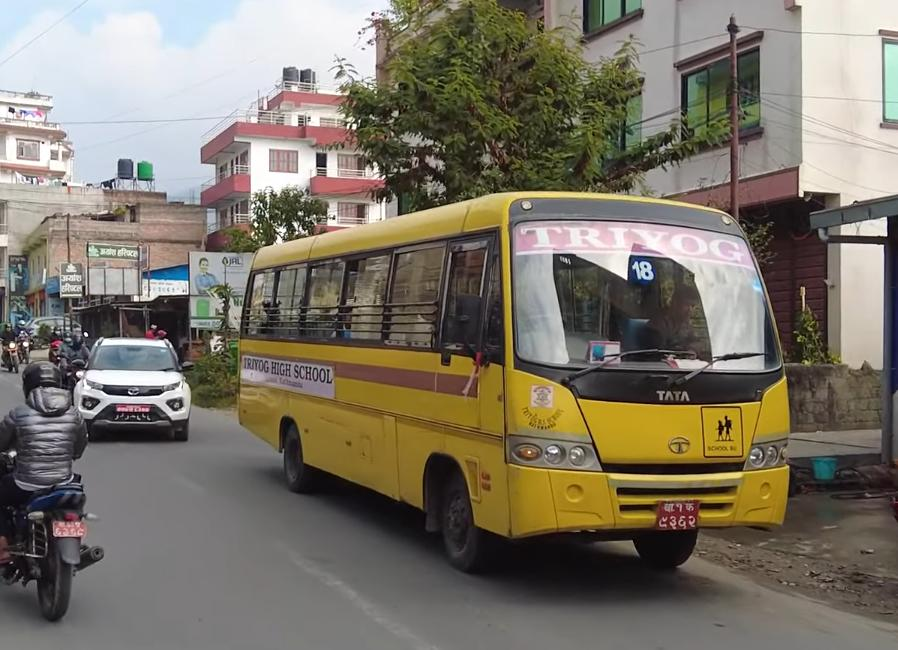bike: (0, 440, 108, 626), (1, 337, 22, 373)
car: (72, 331, 194, 445)
school_bus: (231, 186, 795, 586)
